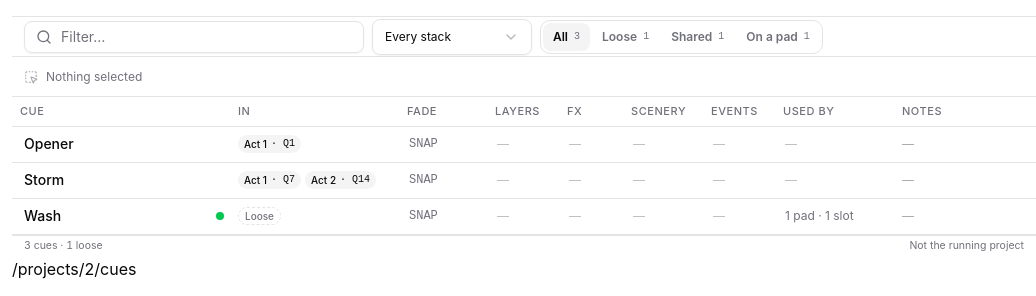
Test: the show-editing lock while the show runs › reads another project’s cues with no actions at all
The width and height of the screenshot is (1036, 296).
Click the element showing "Opener".
click(122, 144)  # box 12,126 -> 232,162
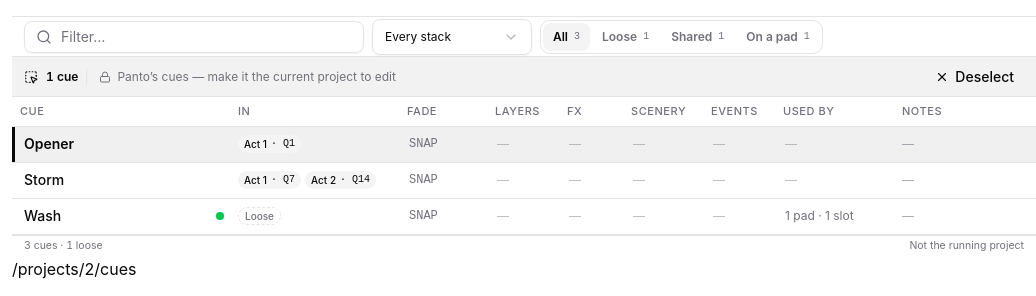
Check: the text "Panto’s cues — make it the current project to edit" is shown, box 86,68 -> 396,84
